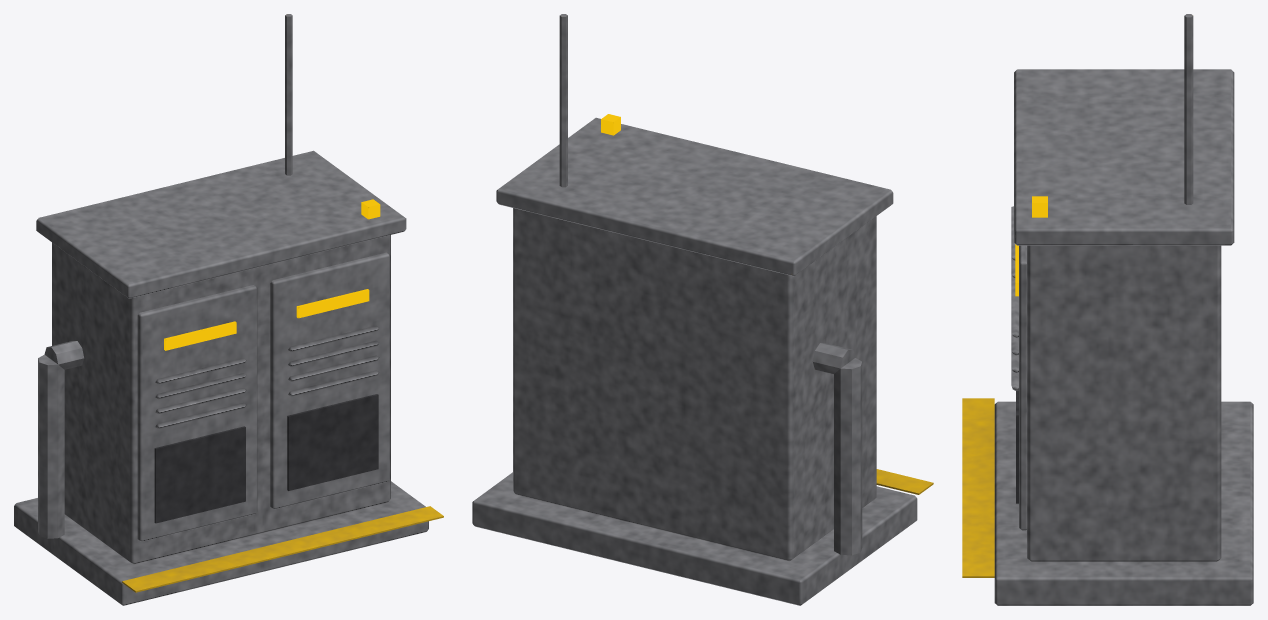
Rendered from nodexeus-cabinet.glb.
The picture shows the model from 3 angles, left to right: view 1: azimuth 30°, elevation 25°; view 2: azimuth 150°, elevation 25°; view 3: azimuth 270°, elevation 25°; orthographic projection. The views are drawn at different scales.
Parts seen in each view (by area): view 1: cabinet; view 2: cabinet; view 3: cabinet.
Part boxes in pixels (<box>): cabinet: <box>14,14,443,605</box>; cabinet: <box>472,14,933,605</box>; cabinet: <box>962,14,1253,605</box>.
Bounding box in the file's own units: 1.36 × 1.9 × 0.9.
1 material, 1 textured.
